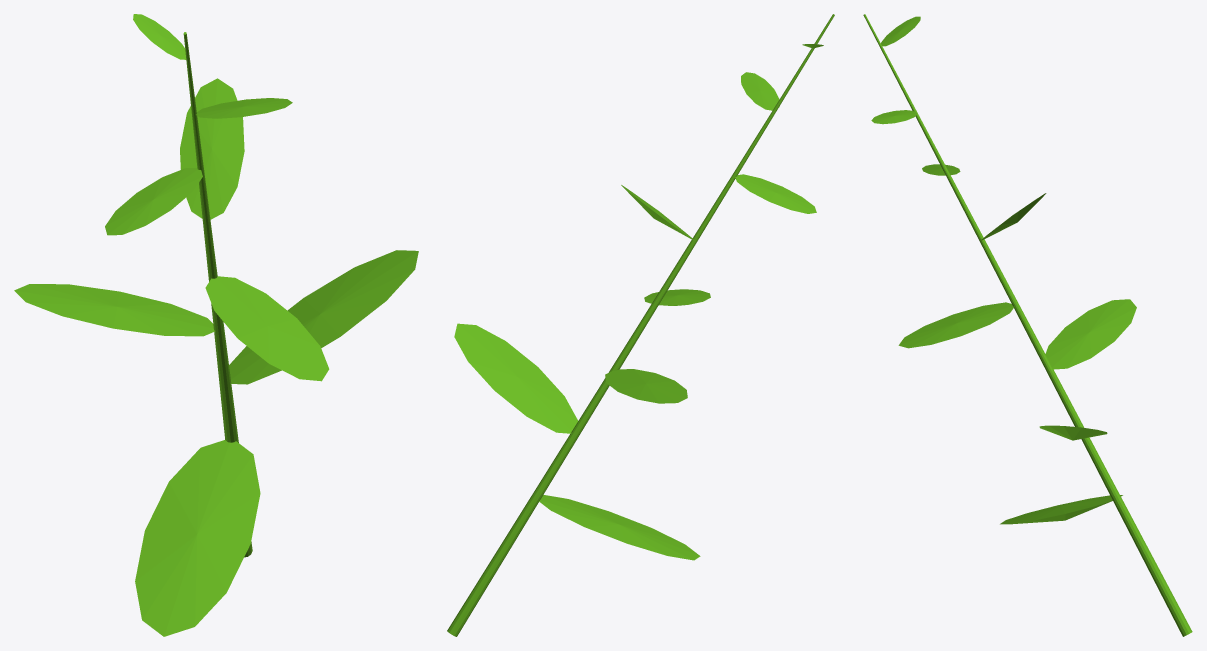
3 views of the same model, side by side, from view 1: azimuth 30°, elevation 25°; view 2: azimuth 150°, elevation 25°; view 3: azimuth 270°, elevation 25° (orthographic). The views are drawn at different scales.
Parts seen in each view (by area): view 1: tree; view 2: tree; view 3: tree.
Boxes of the visible parts, x1,y1,x2,y2 form: tree: (14,14,418,636); tree: (447,14,834,636); tree: (863,14,1192,636).
Bounding box in the file's own units: 0.1785 × 0.1832 × 0.3221.
